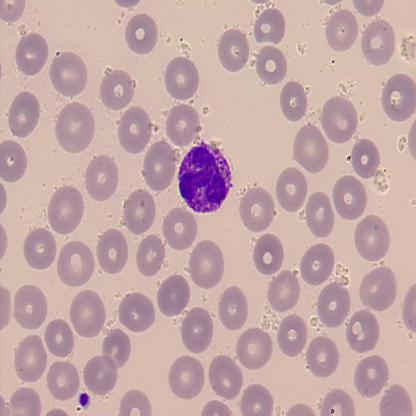Basophil: (176, 140, 236, 215)
